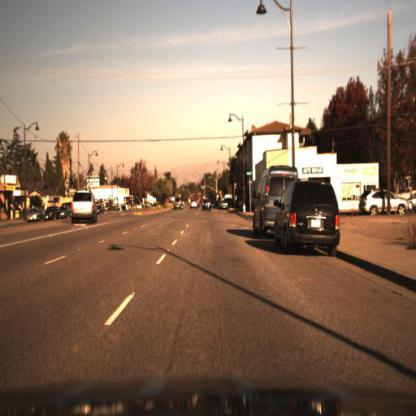car: (275, 176, 345, 259), (248, 170, 276, 242), (71, 189, 100, 227), (200, 196, 216, 216), (172, 193, 184, 218), (24, 208, 41, 224), (42, 206, 56, 224), (219, 198, 232, 215), (190, 198, 202, 214)
